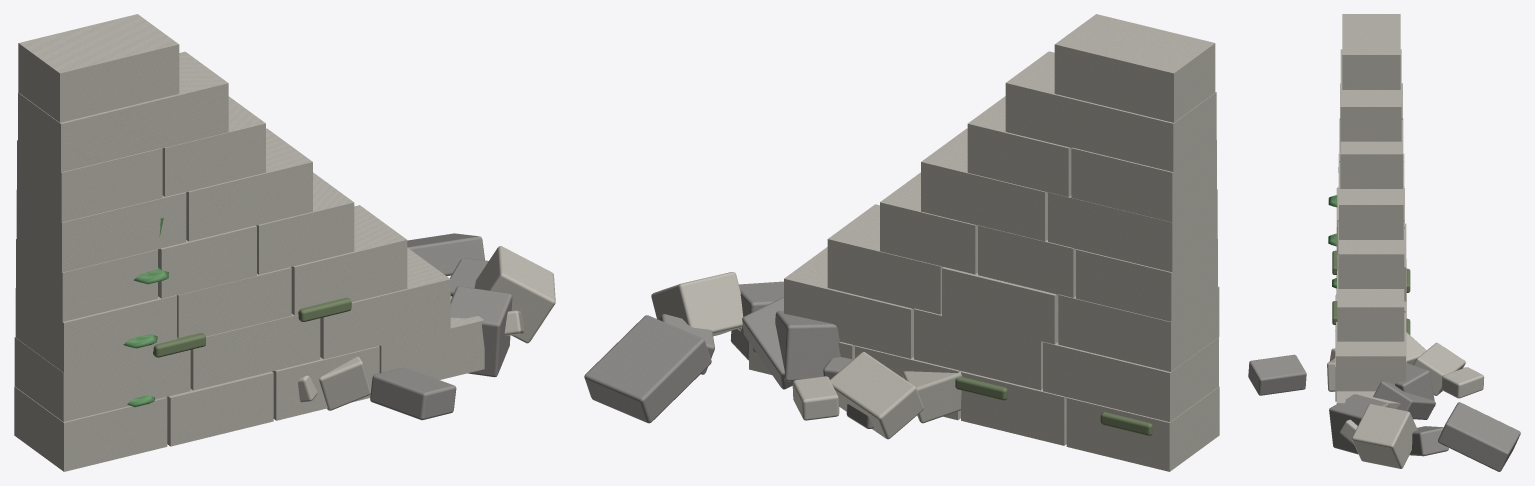
The model's file is jungle-temple-and-stone-city-stone-wall-collapsed-4527f4a2__36117.glb.
3 renders of one model, left to right at view 1: azimuth 30°, elevation 25°; view 2: azimuth 150°, elevation 25°; view 3: azimuth 270°, elevation 25°, orthographic. The views are drawn at different scales.
Parts seen in each view (by area): view 1: stone-wall-collapsed; view 2: stone-wall-collapsed; view 3: stone-wall-collapsed.
Part boxes in pixels (box(x1,y1,x2,y2)): stone-wall-collapsed: box(14, 14, 555, 471); stone-wall-collapsed: box(584, 14, 1219, 471); stone-wall-collapsed: box(1248, 14, 1520, 471).
Size of the model in its own units: 3.64 by 2.66 by 2.3.
4 materials, 4 textured.
